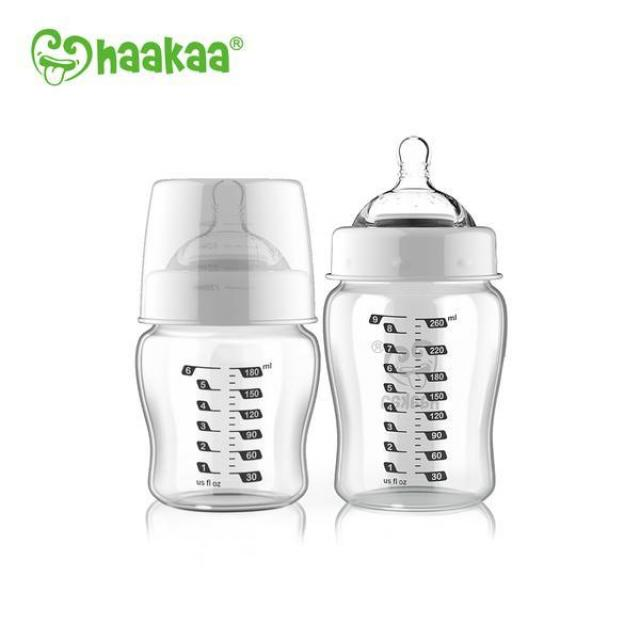plastic_bottle: (124, 170, 329, 518)
